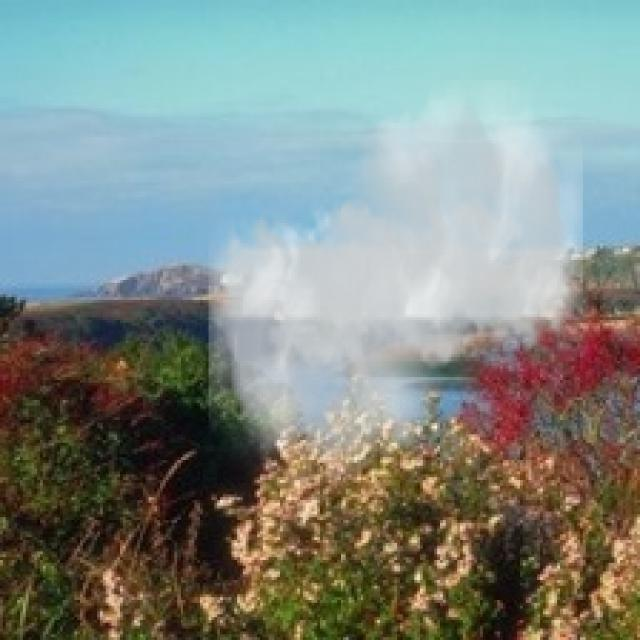smoke: (208, 80, 583, 486)
